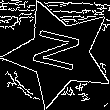N_E: (29, 28, 90, 79)
